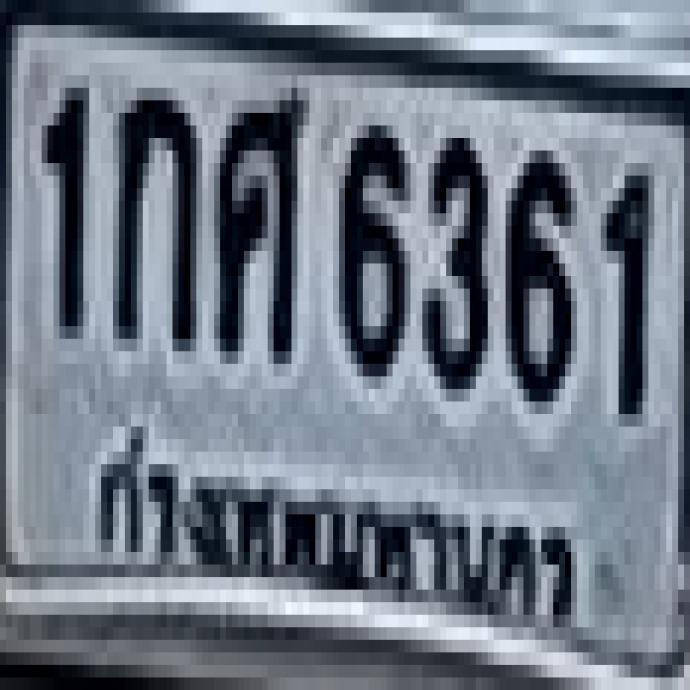1: (598, 158, 645, 408), (39, 76, 80, 324)
3: (418, 126, 482, 380)
6: (335, 113, 402, 364), (503, 140, 568, 398)
A01: (111, 78, 192, 337)
A38: (211, 80, 301, 350)
BKK: (82, 422, 585, 636)
